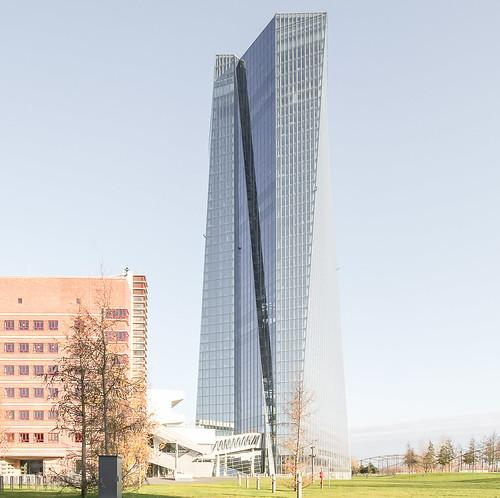building: (192, 6, 357, 490)
